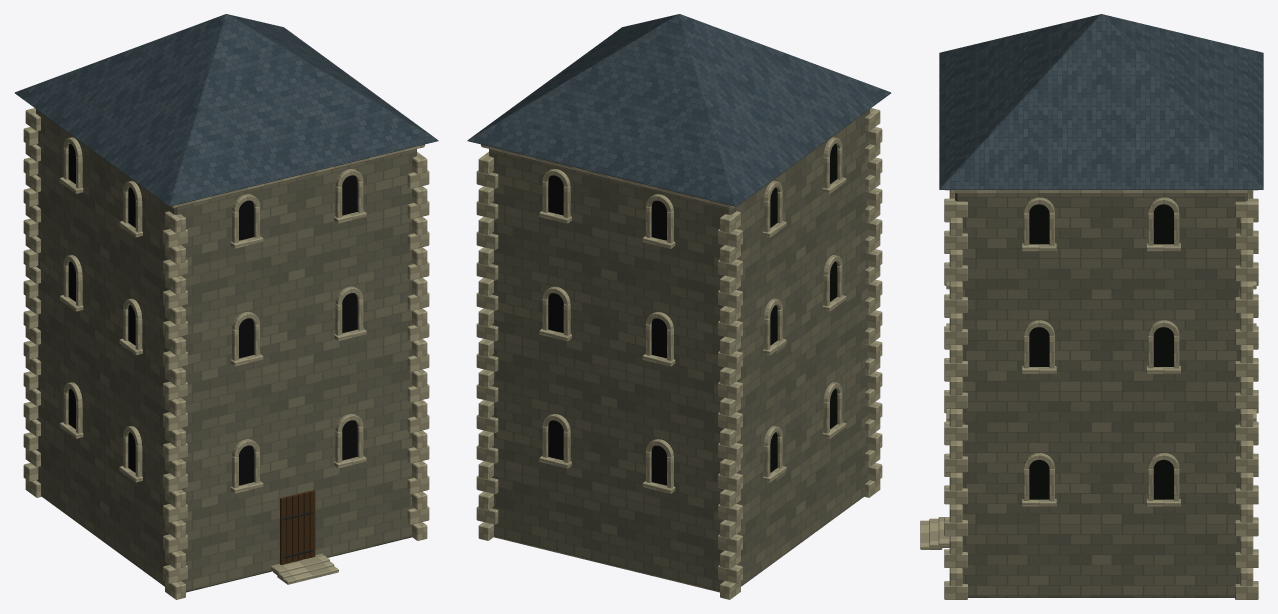
File: keep-Cqkqq9YN.glb
The picture shows the model from 3 angles, left to right: view 1: azimuth 30°, elevation 25°; view 2: azimuth 150°, elevation 25°; view 3: azimuth 270°, elevation 25°; orthographic projection. The views are drawn at different scales.
Parts seen in each view (by area): view 1: keep__SW_stone, keep__SW_slate, keep__SW_limestone, keep__SW_dark, keep__SW_wood; view 2: keep__SW_stone, keep__SW_slate, keep__SW_limestone, keep__SW_dark; view 3: keep__SW_stone, keep__SW_slate, keep__SW_limestone, keep__SW_dark.
Boxes of the visible parts, x1,y1,x2,y2 form: keep__SW_stone: [36, 109, 416, 592]; keep__SW_slate: [15, 14, 438, 206]; keep__SW_limestone: [23, 108, 429, 599]; keep__SW_dark: [68, 143, 357, 485]; keep__SW_wood: [280, 490, 315, 564]; keep__SW_stone: [489, 109, 869, 592]; keep__SW_slate: [467, 14, 890, 206]; keep__SW_limestone: [476, 108, 882, 599]; keep__SW_dark: [548, 143, 837, 485]; keep__SW_stone: [955, 193, 1247, 597]; keep__SW_slate: [939, 14, 1263, 189]; keep__SW_limestone: [920, 190, 1258, 599]; keep__SW_dark: [1029, 204, 1173, 499].
Bounding box in the file's own units: 8.86 × 15.75 × 9.38.
6 materials, 6 textured.
